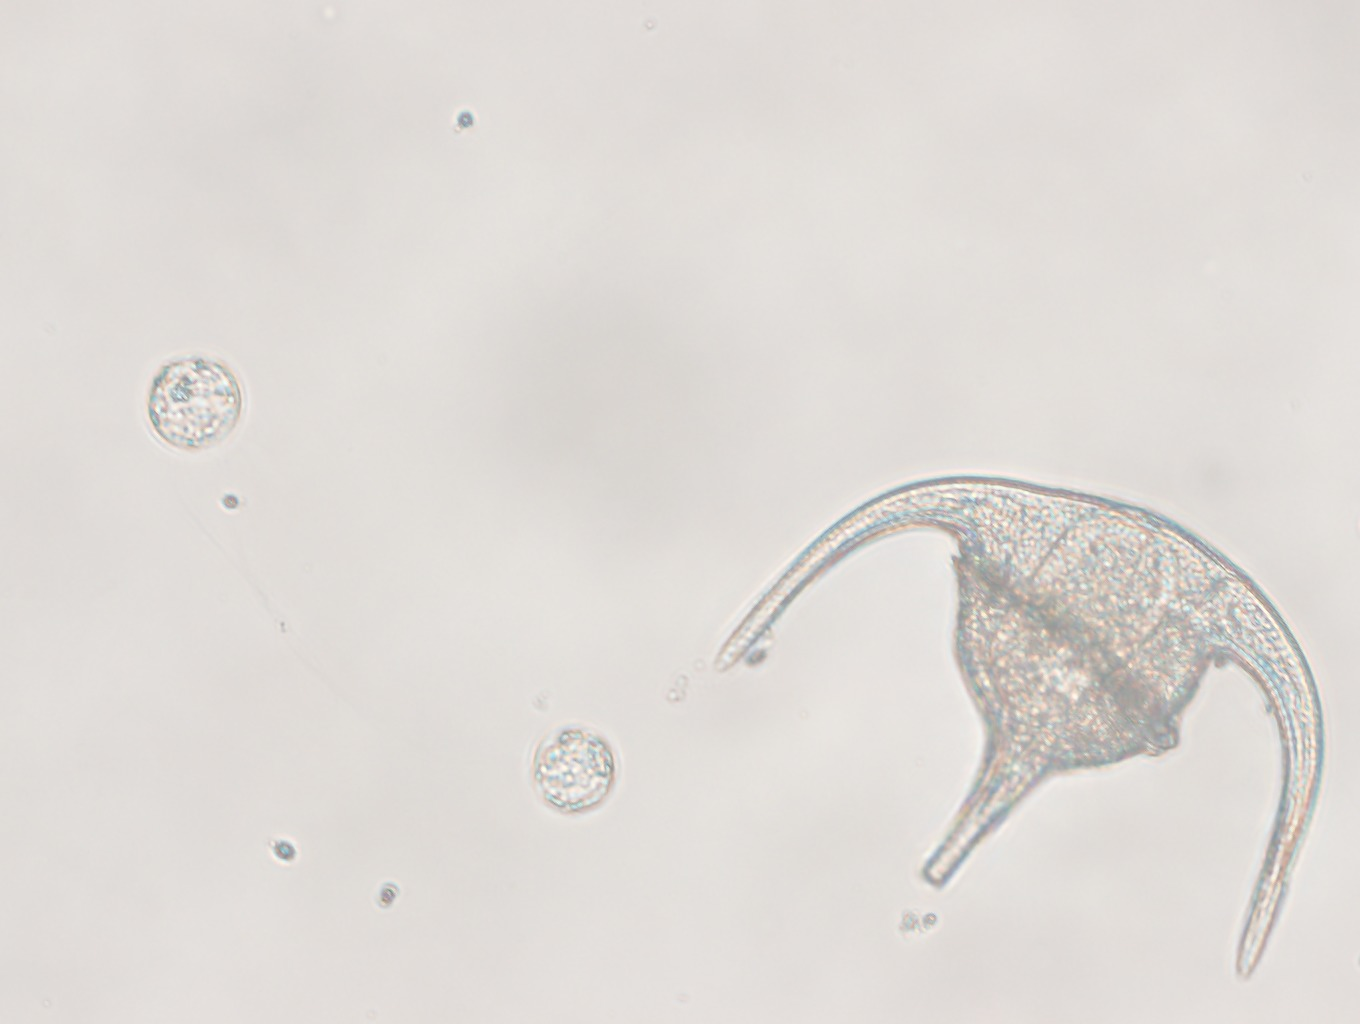ceratium tripos: (716, 474, 1325, 980)
